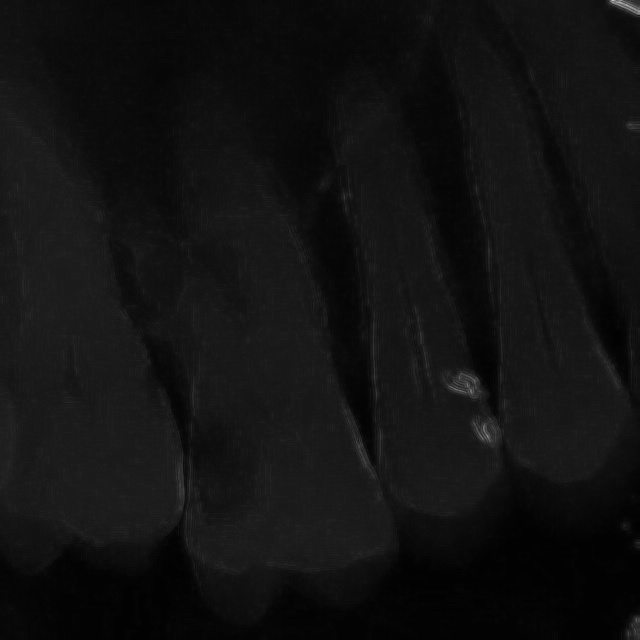cavity: (84, 30, 537, 621)
